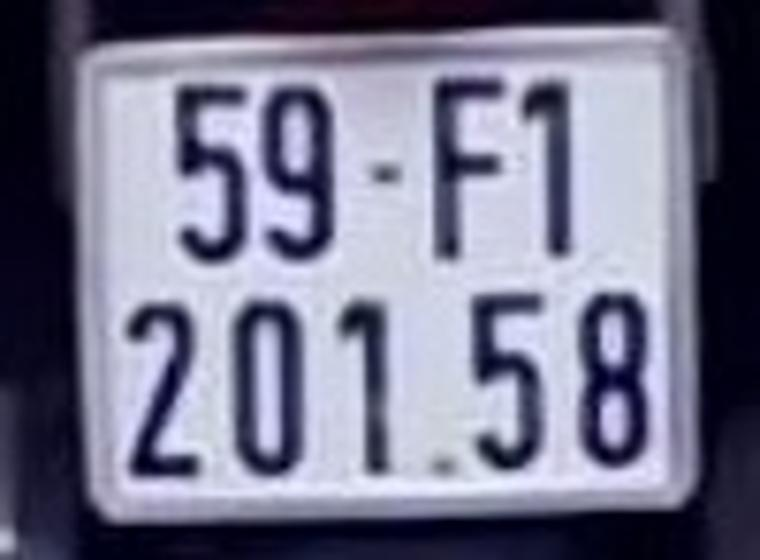-: (366, 156, 413, 192)
.: (422, 447, 462, 486)
0: (228, 295, 314, 479)
1: (328, 297, 408, 486), (516, 74, 590, 266)
2: (119, 301, 213, 489)
5: (167, 71, 261, 271), (469, 286, 554, 479)
8: (579, 285, 656, 475)
9: (263, 76, 341, 269)
F: (428, 74, 511, 266)
